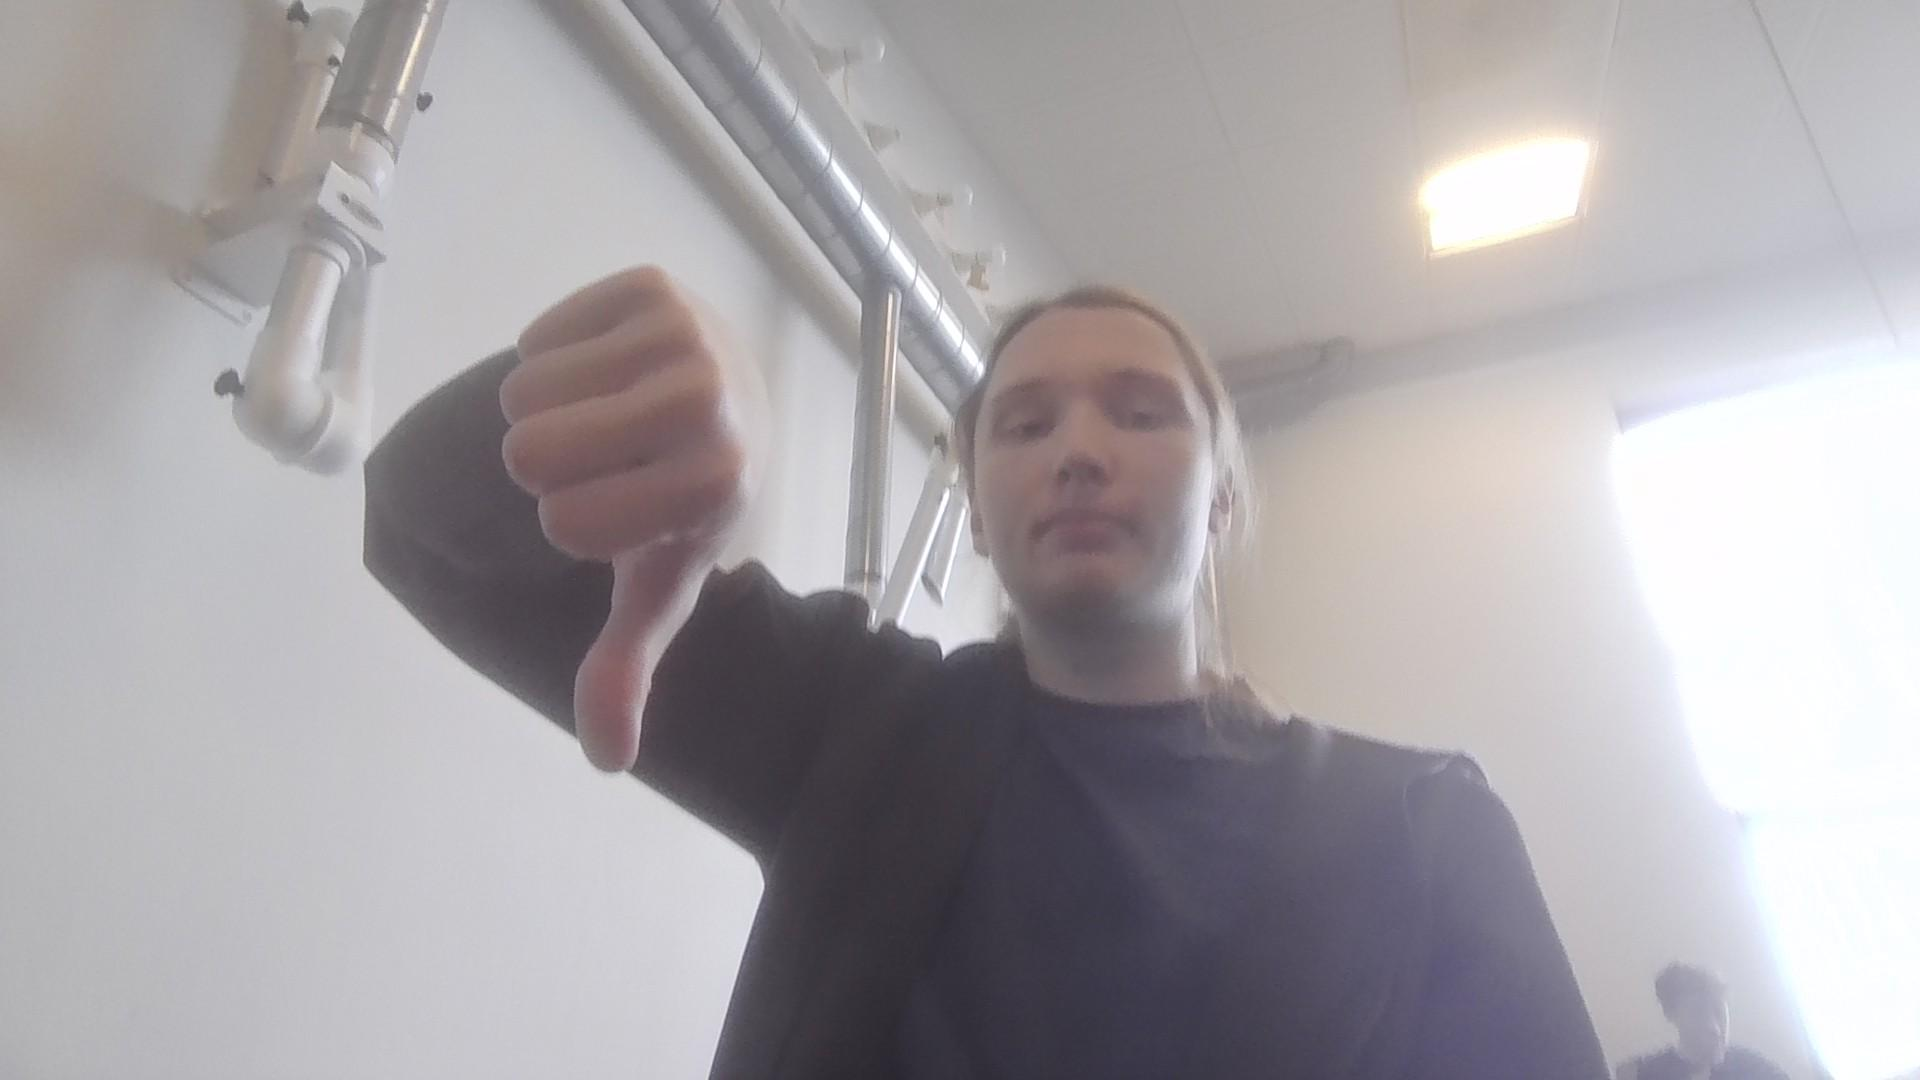thumbs down: (502, 264, 800, 761)
